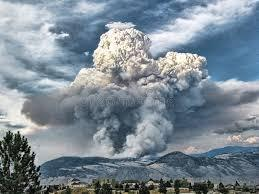yanwu: (21, 24, 259, 160)
